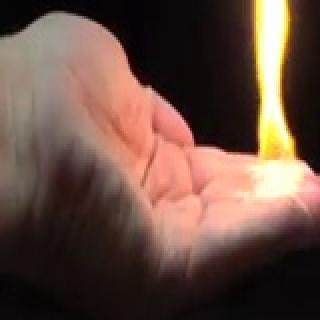fire: (245, 0, 307, 211)
